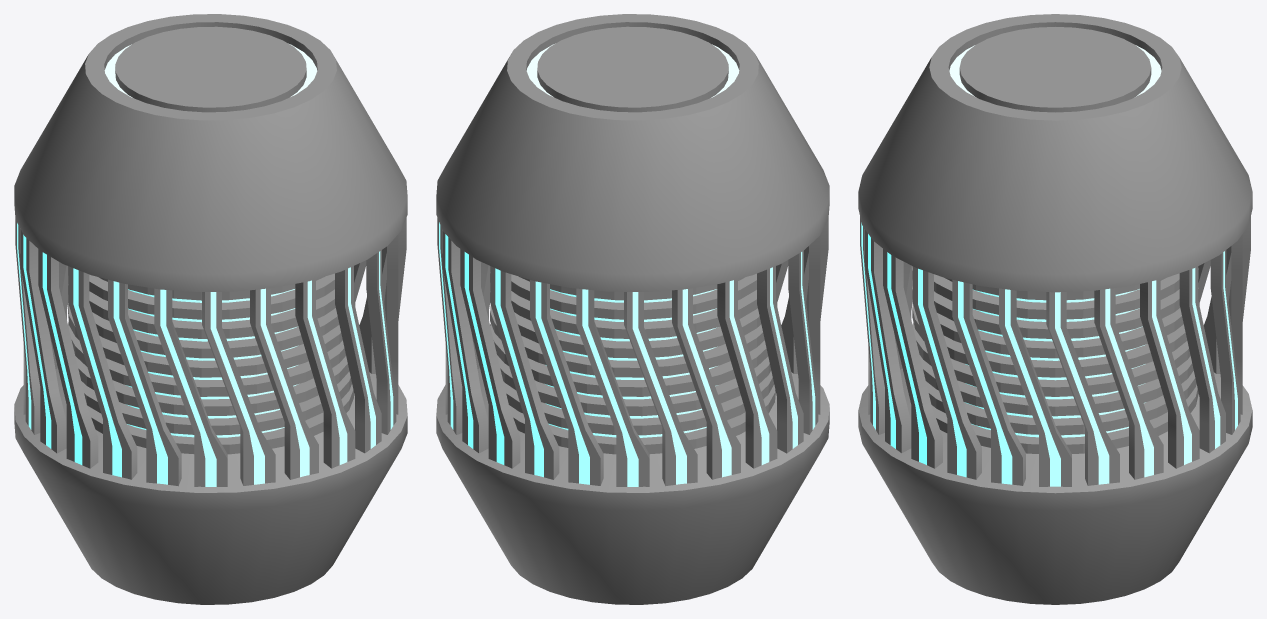
The model's file is Magnet.fbx.
The picture shows the model from 3 angles, left to right: view 1: azimuth 30°, elevation 25°; view 2: azimuth 150°, elevation 25°; view 3: azimuth 270°, elevation 25°; orthographic projection.
Visible parts, largest first — view 1: Cylinder.001; view 2: Cylinder.001; view 3: Cylinder.001.
Boxes of the visible parts, x1,y1,x2,y2 form: Cylinder.001: (14,14,407,604); Cylinder.001: (436,14,829,604); Cylinder.001: (858,14,1252,604).
Size of the model in its own units: 162 by 220 by 162.
